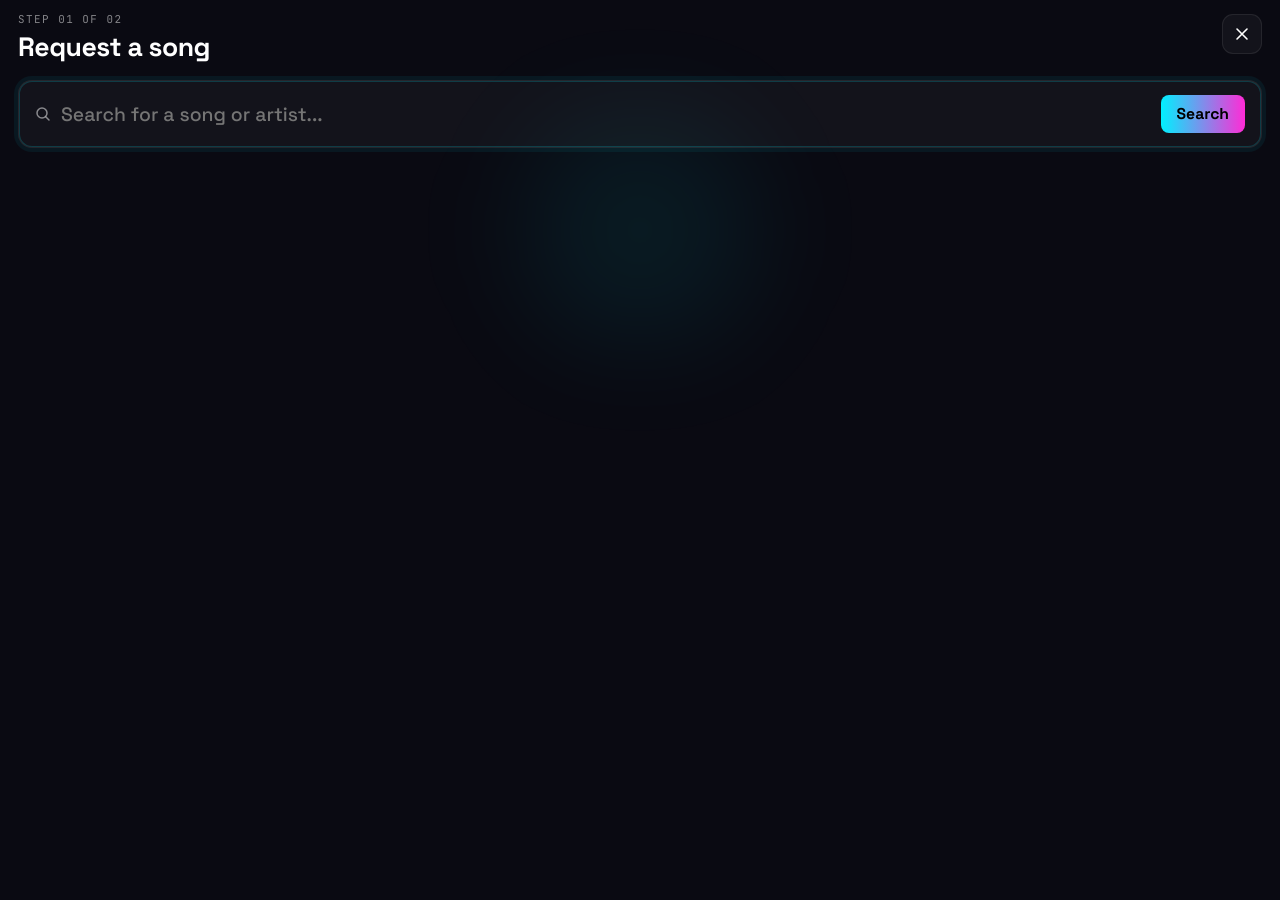
Scenario: JoinEventPage — search and submission flow › shows confirm request page when song is selected
The width and height of the screenshot is (1280, 900).
Type "Select" into the field with placeholder "Search for a song or artist...".
click(606, 114); type("Select")  # box [61,102,1151,126]
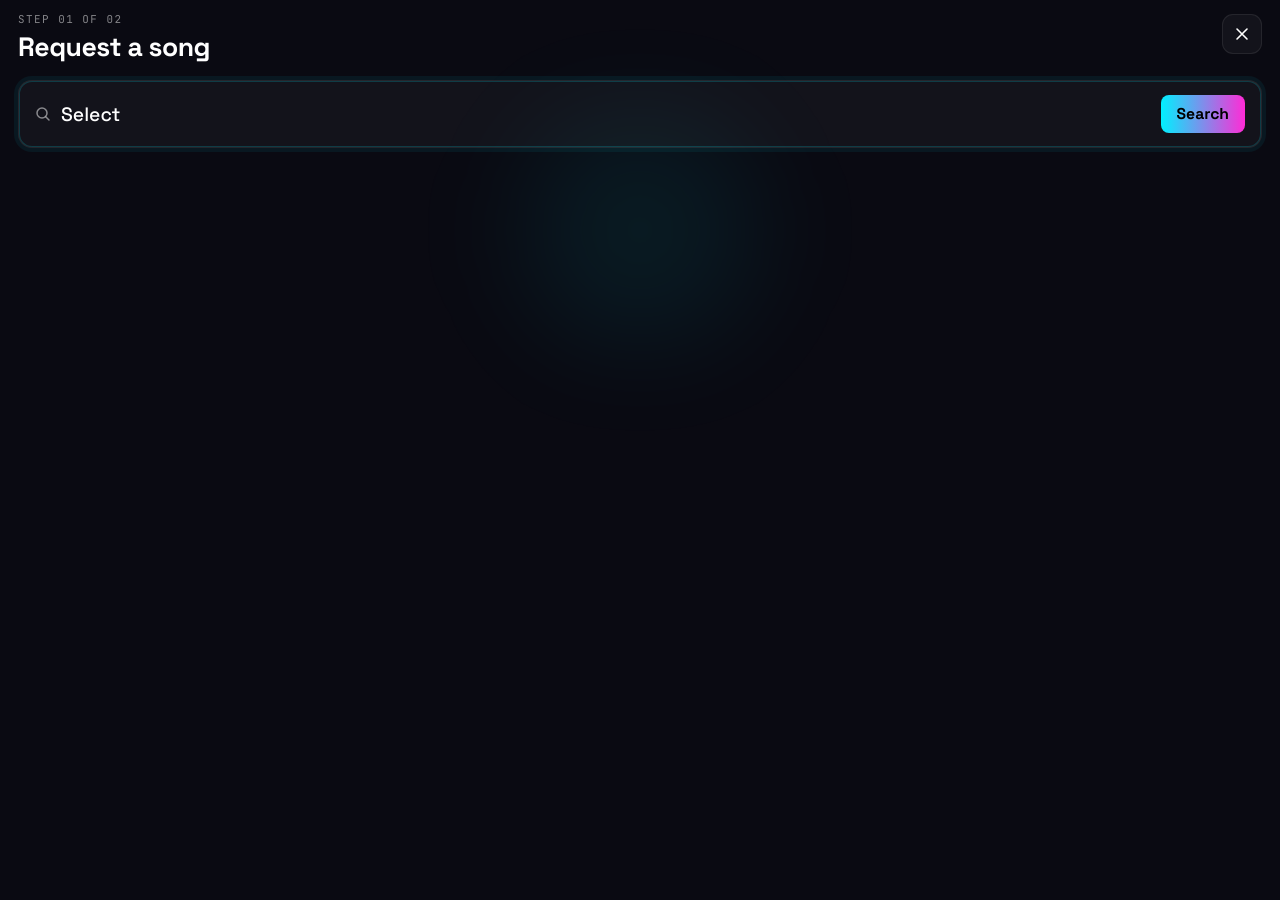
Submit the form from the button "Search", box [1161,95,1245,133]
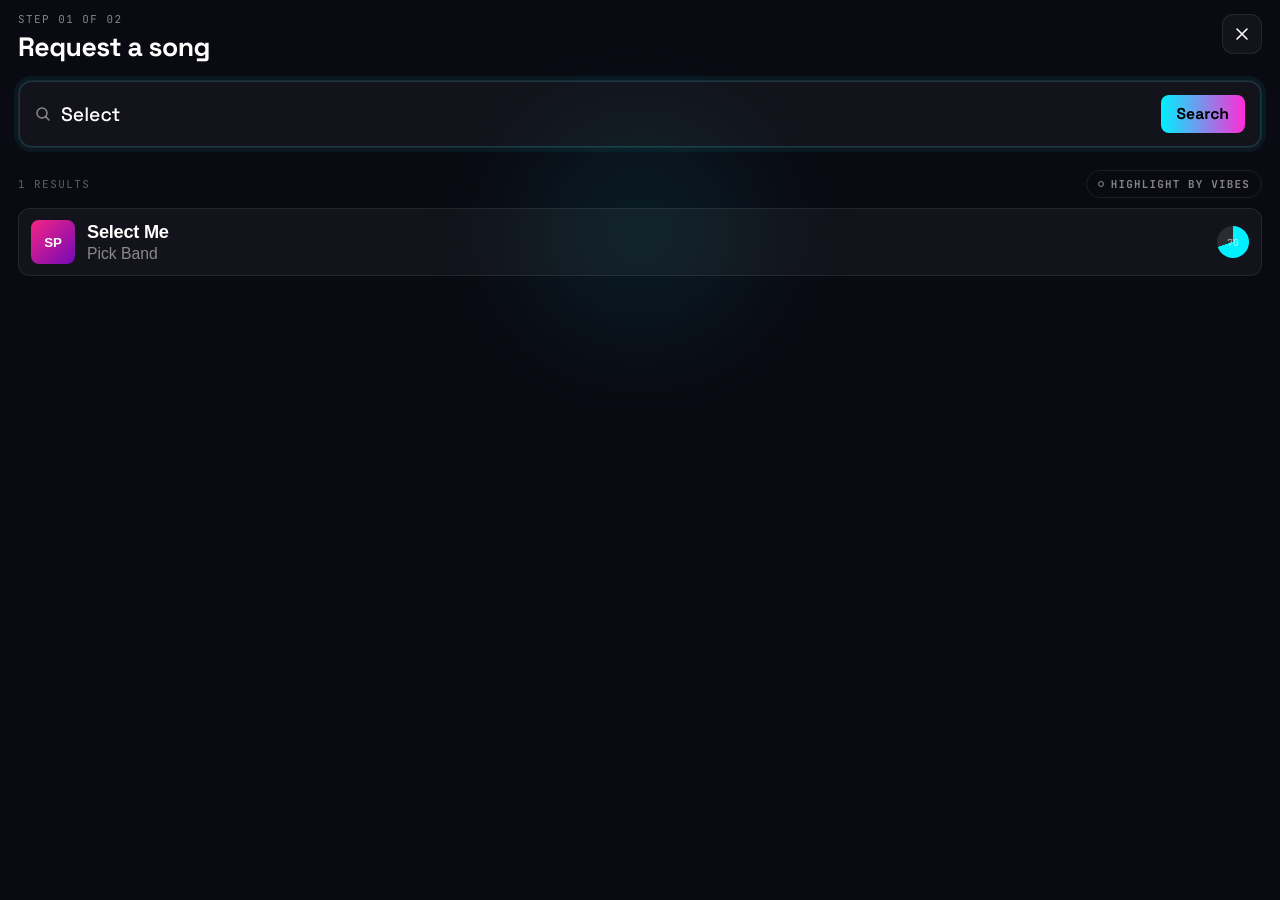
Result: the text "Select Me" is shown
Click the text "Select Me".
click(128, 232)  # box [87,222,169,242]
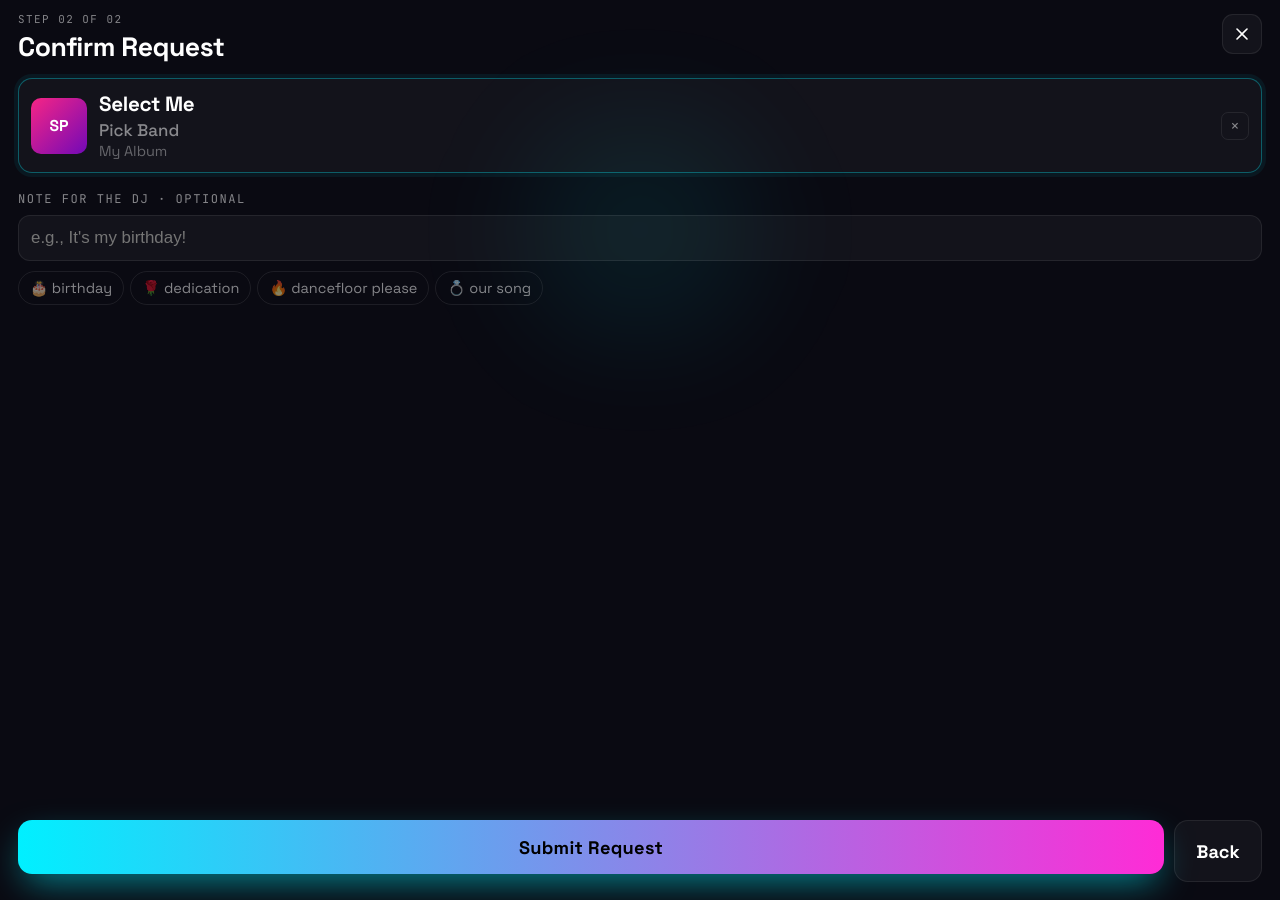
Result: the text "Select Me" is shown at [99,91,194,117]
Result: the text "Confirm Request" is shown at [18,30,224,64]
